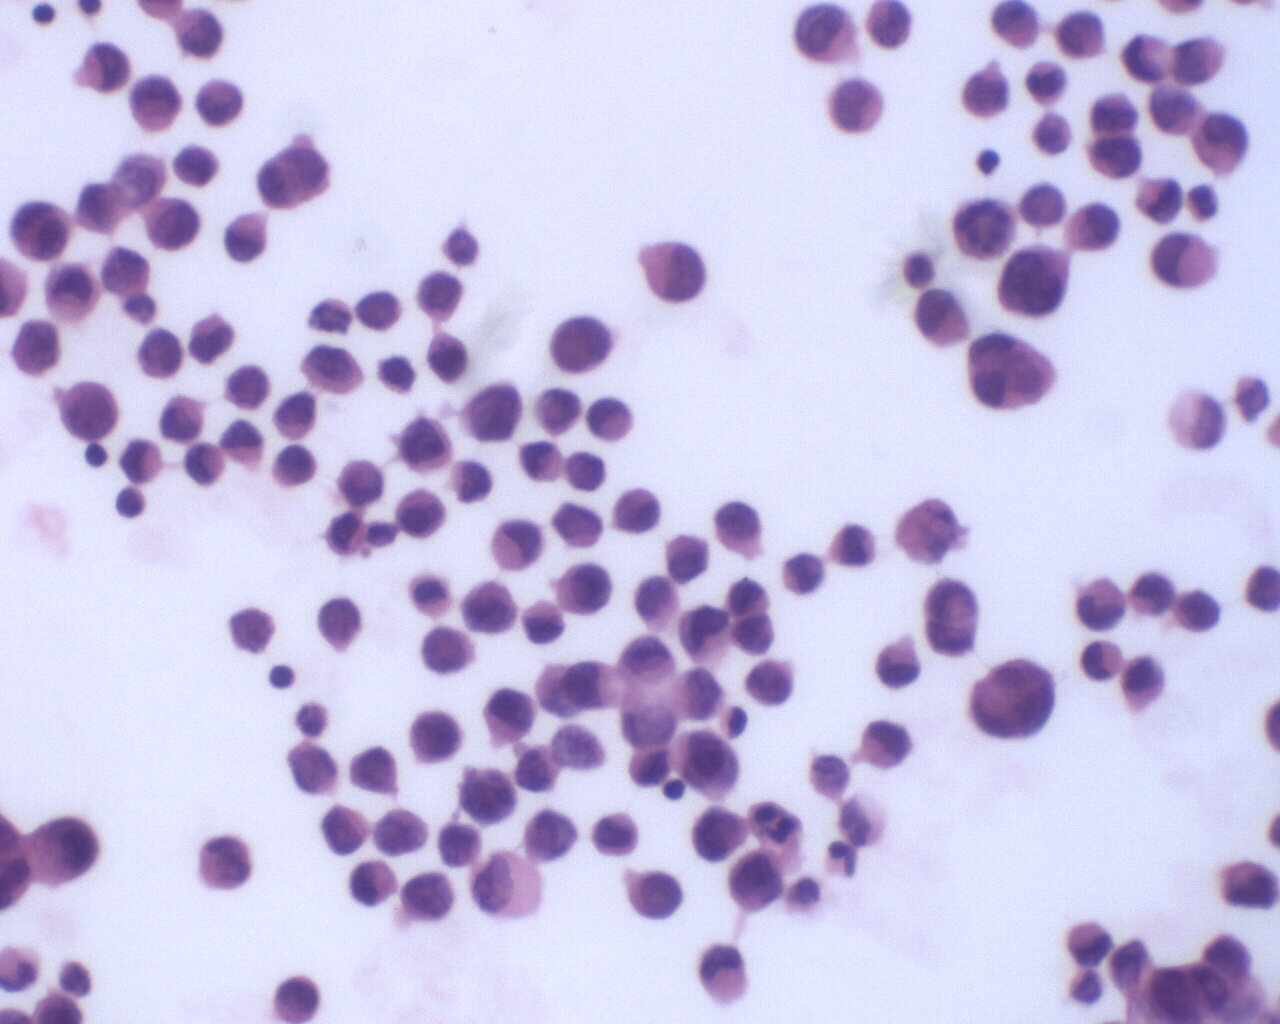ab: (991, 243, 1073, 319), (639, 241, 709, 307), (55, 378, 122, 443), (792, 2, 859, 67), (9, 197, 73, 263), (196, 832, 259, 897), (455, 762, 517, 827), (554, 558, 615, 621), (688, 802, 751, 863), (398, 416, 456, 482), (827, 76, 887, 138), (300, 342, 367, 397), (458, 576, 518, 636), (625, 865, 686, 923), (127, 73, 183, 136), (409, 708, 467, 767), (481, 686, 537, 744), (143, 197, 201, 253), (134, 326, 188, 385), (399, 869, 455, 925), (960, 63, 1014, 120), (321, 799, 372, 858), (1087, 132, 1146, 182), (272, 971, 326, 1024), (662, 531, 715, 585), (396, 488, 448, 541), (172, 5, 225, 59), (424, 328, 475, 382), (414, 271, 467, 322), (532, 386, 585, 437), (1174, 583, 1224, 638), (271, 389, 321, 440), (196, 79, 247, 129), (592, 809, 641, 858), (224, 363, 271, 409)
lymph: (267, 662, 297, 694), (659, 777, 686, 801)
meso: (24, 815, 102, 891)
neutro: (816, 839, 866, 886)
